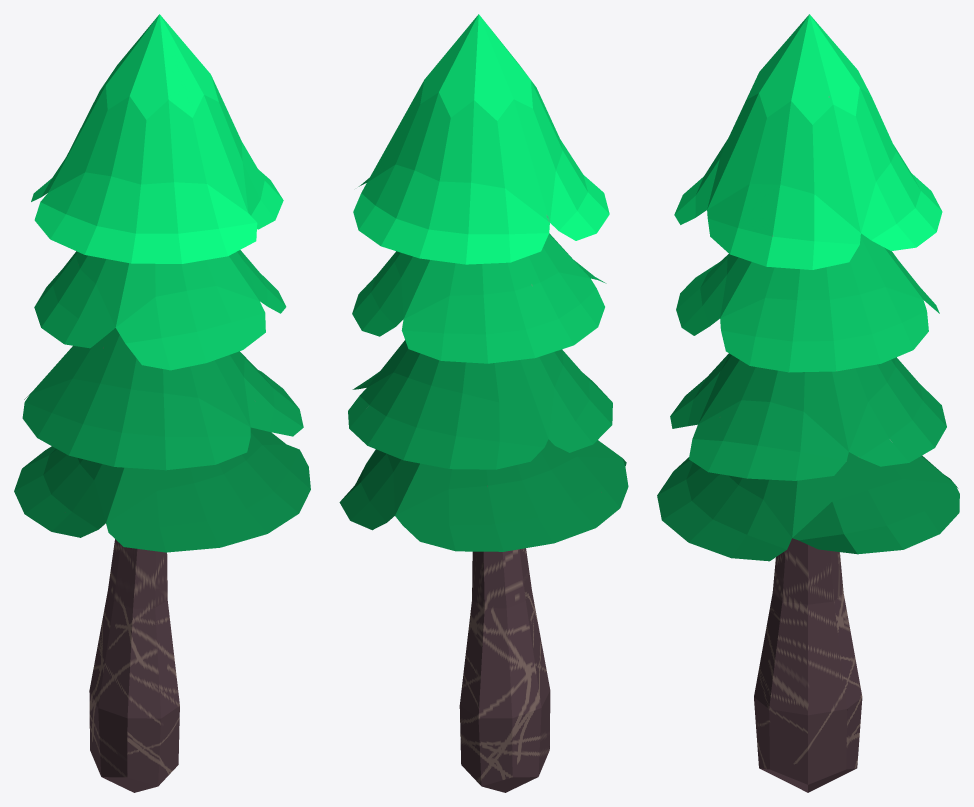
Rendered from Arbol1 1Terrain.fbx.
The picture shows the model from 3 angles, left to right: view 1: azimuth 30°, elevation 25°; view 2: azimuth 150°, elevation 25°; view 3: azimuth 270°, elevation 25°; orthographic projection. The views are drawn at different scales.
Parts seen in each view (by area): view 1: Arbol1; view 2: Arbol1; view 3: Arbol1.
Part boxes in pixels (<box>): Arbol1: <box>14,14,310,792</box>; Arbol1: <box>339,14,628,792</box>; Arbol1: <box>657,14,959,792</box>.
Bounding box in the file's own units: 4.57 × 13.17 × 4.57.
1 material, 1 textured.
